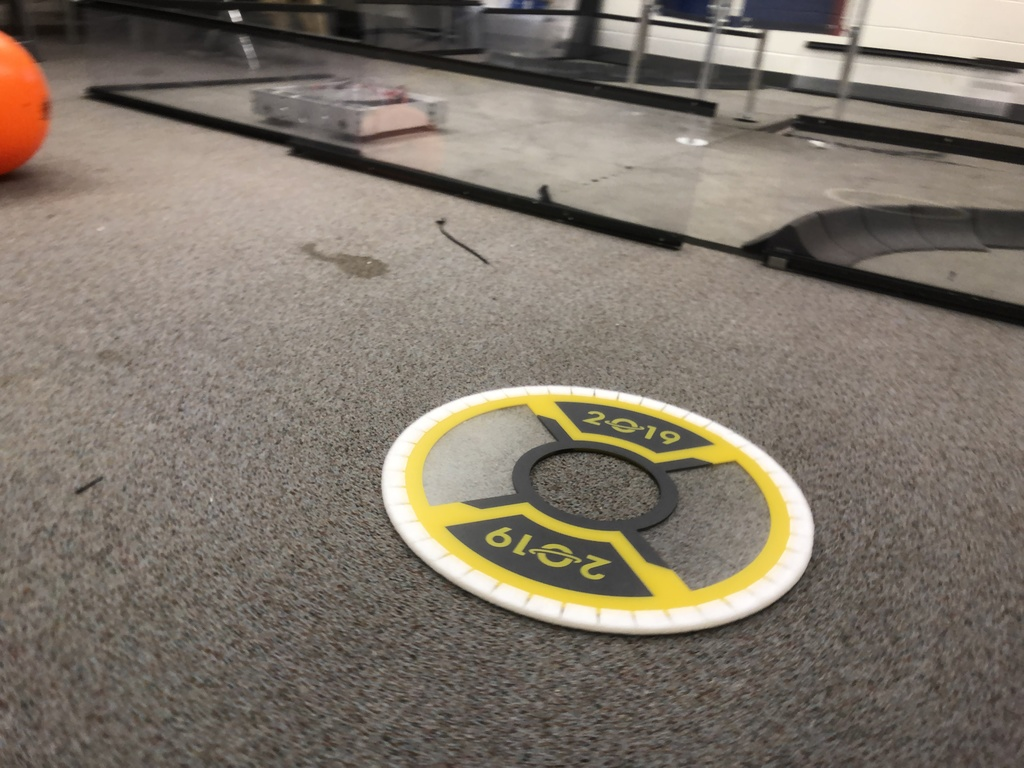hatch_panel: (371, 373, 836, 648)
